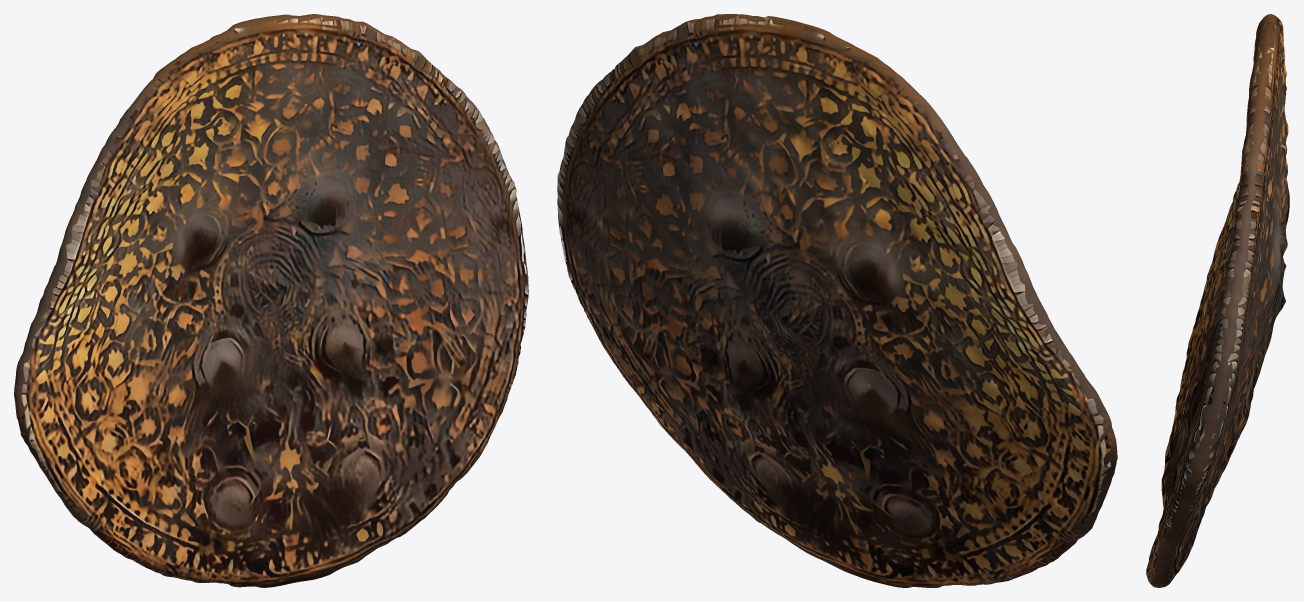
The model's file is kfl-2315.glb.
3 renders of one model, left to right at view 1: azimuth 30°, elevation 25°; view 2: azimuth 150°, elevation 25°; view 3: azimuth 270°, elevation 25°, orthographic. The views are drawn at different scales.
Visible parts, largest first — view 1: kfl-2315; view 2: kfl-2315; view 3: kfl-2315.
Part boxes in pixels (left/top/right/bottom): kfl-2315: left=14, top=14, right=528, bottom=587; kfl-2315: left=557, top=14, right=1117, bottom=587; kfl-2315: left=1146, top=14, right=1289, bottom=587.
Bounding box in the file's own units: 0.9792 × 0.986 × 0.2389.
4 materials, 4 textured.
